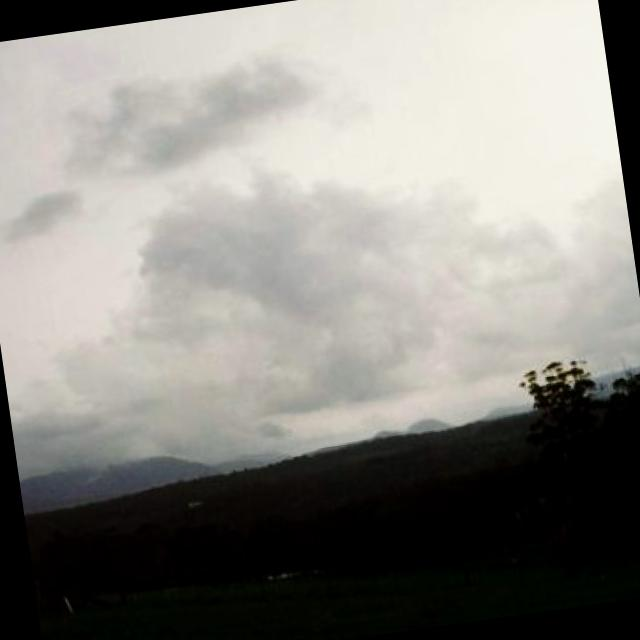Sc: (1, 1, 640, 409)
